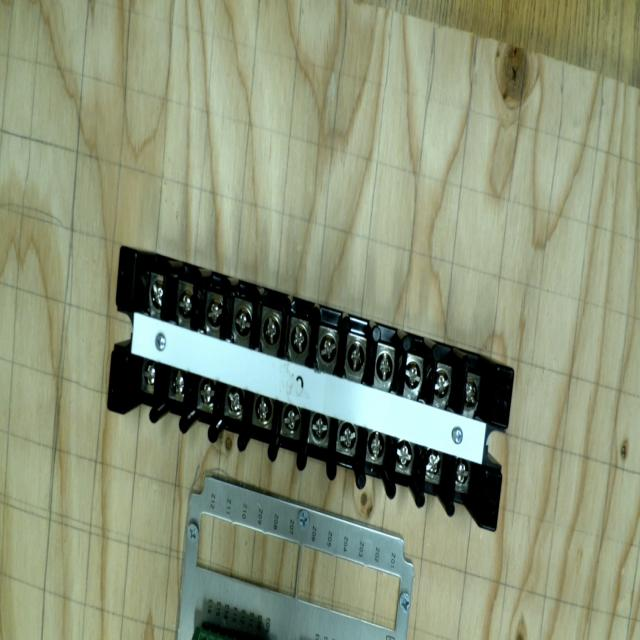Phillips_Block: (73, 246, 543, 531)
